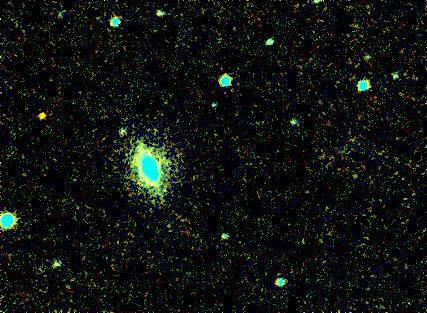star: (26, 99, 56, 129)
